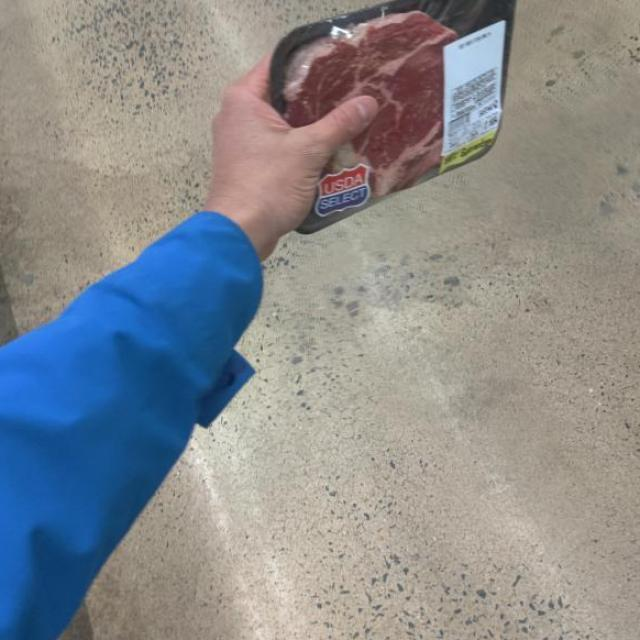Meat: (271, 0, 518, 230)
